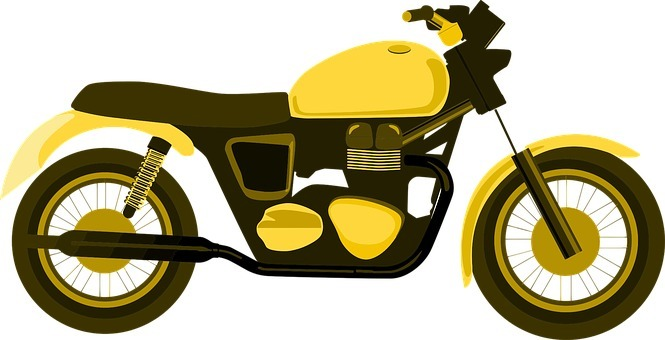motorbike: (1, 1, 658, 337)
